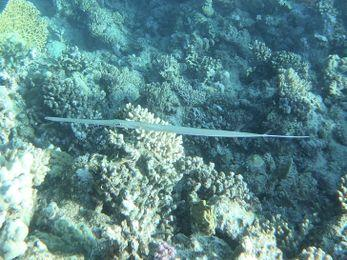Fistularia commersonii: (27, 93, 314, 154)
